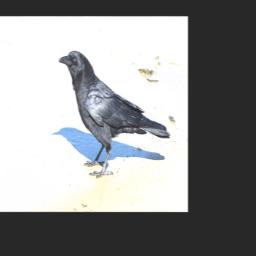Crow: (58, 50, 171, 178)
